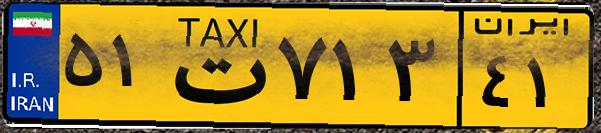1: (330, 28, 385, 110), (525, 38, 570, 115), (110, 28, 158, 98)
3: (385, 28, 445, 110)
4: (475, 38, 525, 113)
5: (57, 26, 110, 100)
7: (270, 28, 330, 110)
ت: (158, 12, 270, 120)
